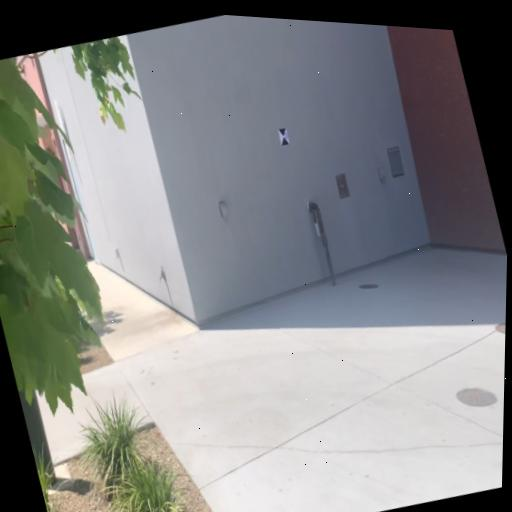target3: (278, 127, 290, 146)
